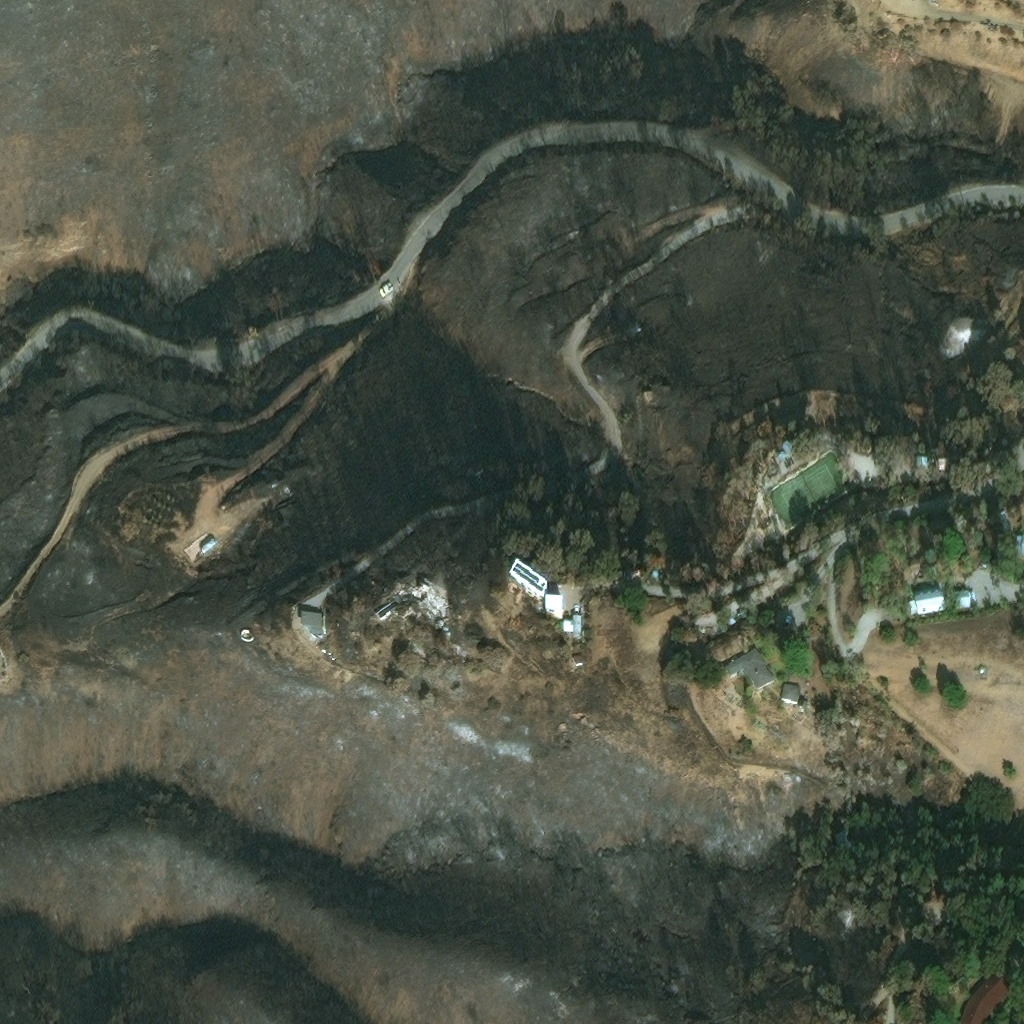0 no-damage: (959, 970, 1010, 1023), (721, 647, 776, 693), (914, 586, 945, 612), (952, 586, 978, 609), (301, 610, 324, 633), (918, 451, 949, 468), (771, 439, 793, 461), (834, 826, 854, 849), (780, 683, 800, 705), (562, 613, 582, 633), (620, 567, 644, 582), (995, 508, 1012, 528), (755, 510, 774, 527), (1012, 533, 1023, 557), (906, 596, 918, 614), (702, 620, 716, 628), (800, 680, 807, 690)
1 minor-damage: (507, 558, 563, 619)
3 destroyed: (396, 570, 451, 627), (374, 593, 408, 619), (198, 530, 220, 550), (630, 313, 644, 327), (239, 628, 253, 642)
